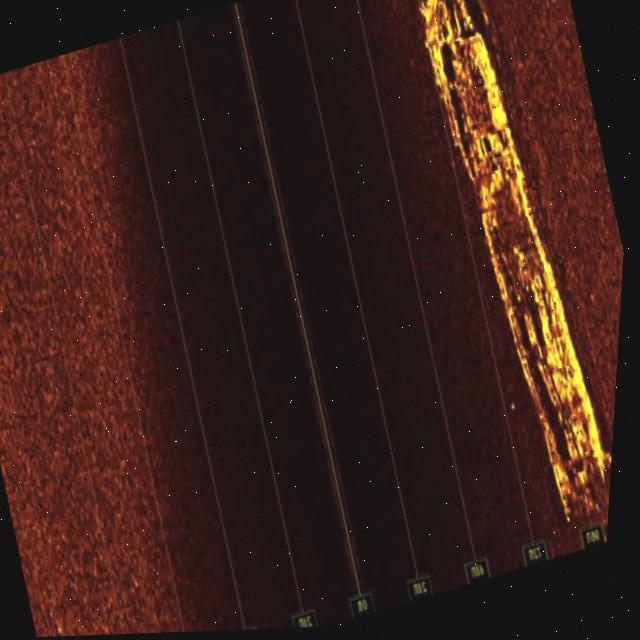shipwreck: (380, 0, 640, 546)
